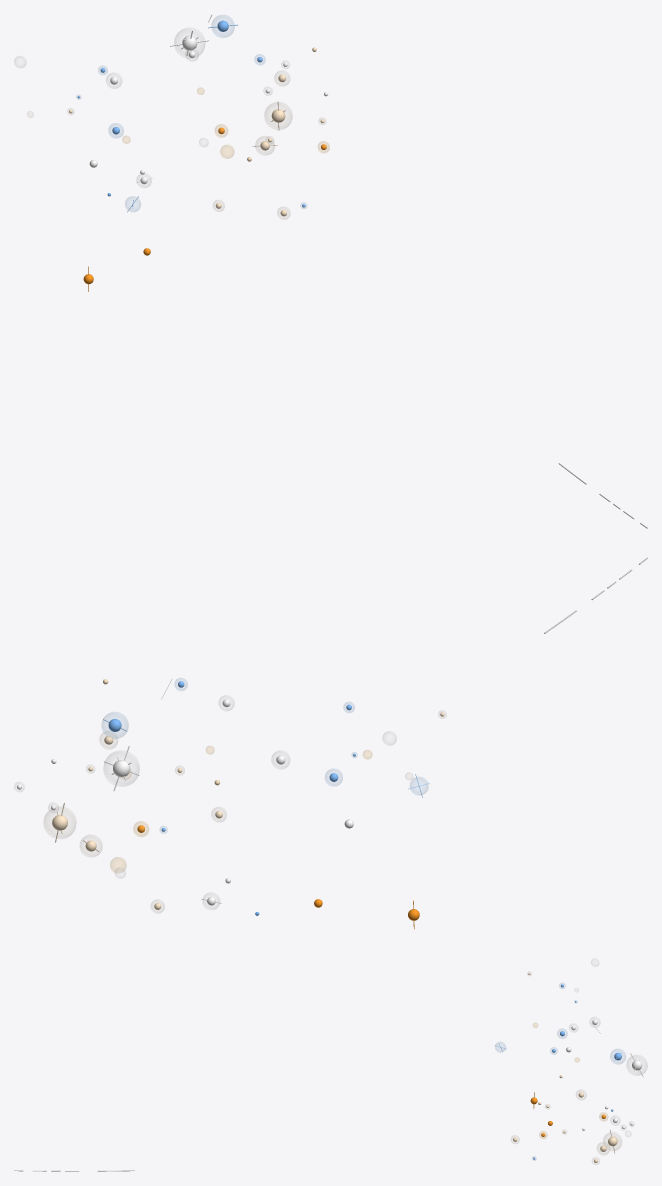
File: HighwireHorizon_02.obj
3 views of the same model, one above another, from view 1: azimuth 30°, elevation 25°; view 2: azimuth 150°, elevation 25°; view 3: azimuth 270°, elevation 25° (orthographic). The views are drawn at different scales.
Parts seen in each view (by area): view 1: no part large enough to name; view 2: Halo27, Halo29; view 3: no part large enough to name.
Boxes of the visible parts, left/top/right/bottom form: Halo27: left=103, top=750, right=139, bottom=786; Halo29: left=43, top=806, right=76, bottom=838.
Size of the model in its own units: 95.93 by 63.62 by 252.
Materials: 12 (1 with a texture image).
